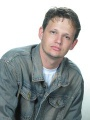male: (35, 3, 82, 66)
